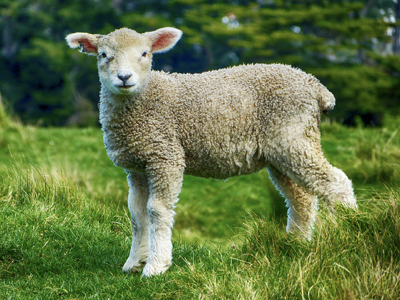koyun: (65, 30, 359, 277)
